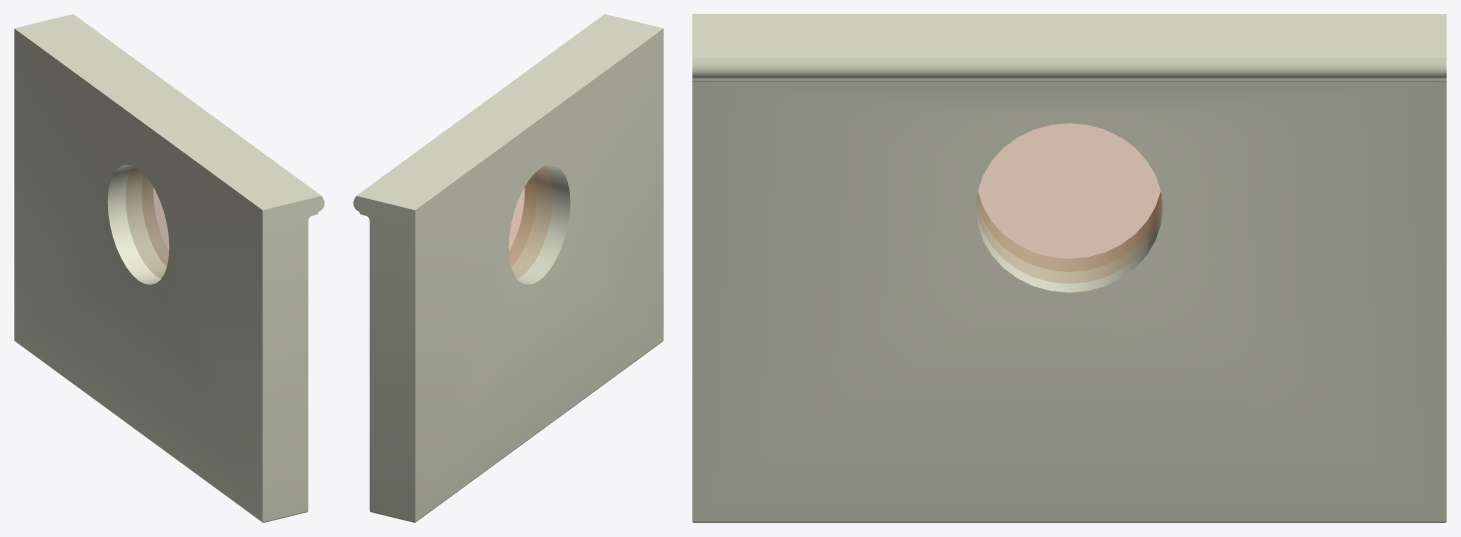
Rendered from ParedVentana.glb.
3 renders of one model, left to right at view 1: azimuth 30°, elevation 25°; view 2: azimuth 150°, elevation 25°; view 3: azimuth 270°, elevation 25°, orthographic. The views are drawn at different scales.
Parts seen in each view (by area): view 1: Cube, Cylinder; view 2: Cube, Cylinder; view 3: Cube, Cylinder.
Boxes of the visible parts, <box> form: Cube: <box>14,14,324,522</box>; Cylinder: <box>126,167,168,277</box>; Cube: <box>353,14,663,522</box>; Cylinder: <box>509,167,552,277</box>; Cube: <box>692,14,1446,522</box>; Cylinder: <box>976,123,1161,283</box>.
Bounding box in the file's own units: 1.67 × 8.09 × 11.61.
